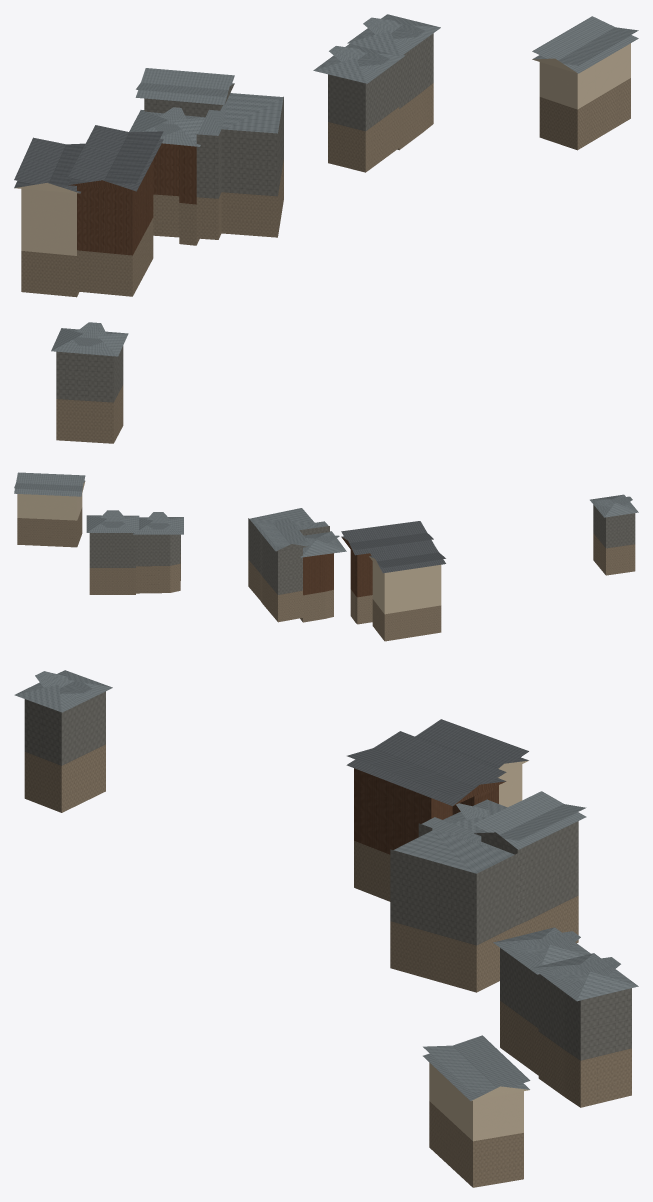
Rendered from bld_c10_18_434.gltf.
The picture shows the model from 3 angles, top to bottom: view 1: azimuth 30°, elevation 25°; view 2: azimuth 150°, elevation 25°; view 3: azimuth 270°, elevation 25°; orthographic projection. The views are drawn at different scales.
Parts seen in each view (by area): view 1: bld_c10_18_434; view 2: bld_c10_18_434; view 3: bld_c10_18_434.
Part boxes in pixels (x1,y1,x2,y2): bld_c10_18_434: (14, 14, 638, 443); bld_c10_18_434: (14, 472, 638, 641); bld_c10_18_434: (14, 670, 638, 1187).
Size of the model in its own units: 99.09 by 16.3 by 61.35.
9 materials, 9 textured.
